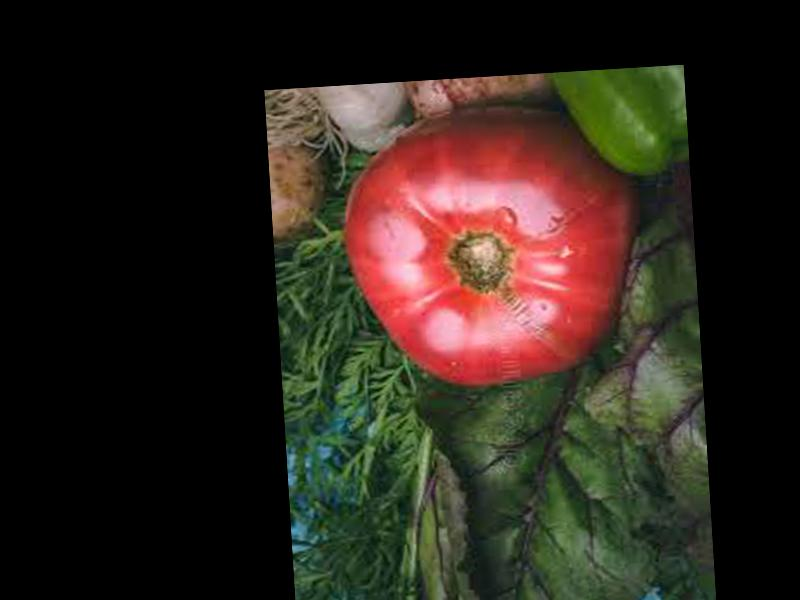Tomato: (337, 94, 649, 392)
